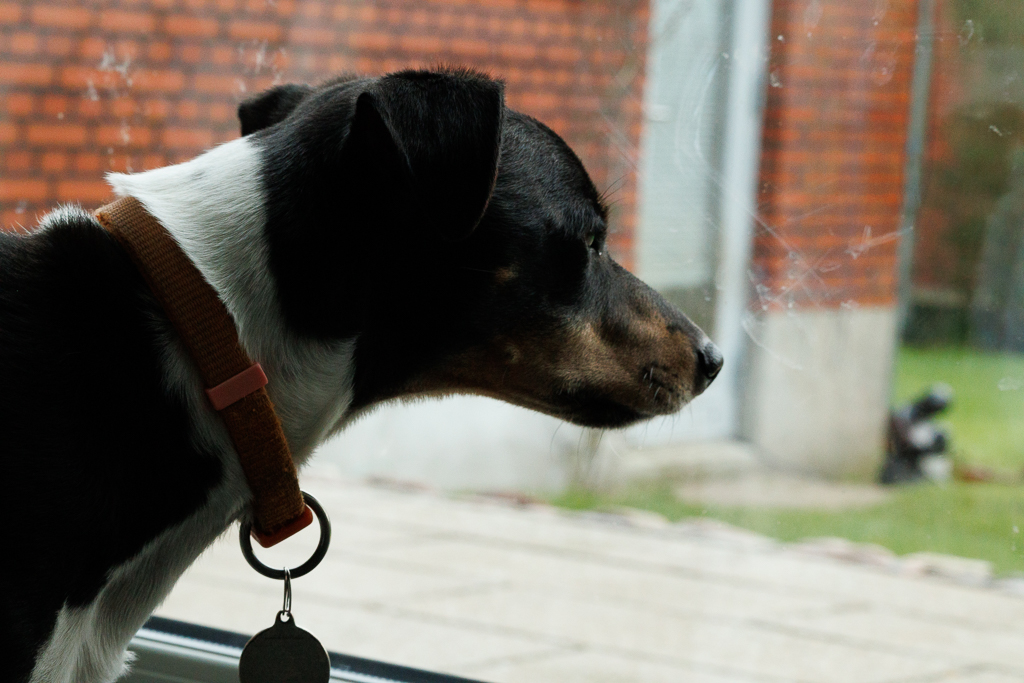Dog: (0, 57, 737, 683)
Humanoid: (862, 368, 967, 499)
